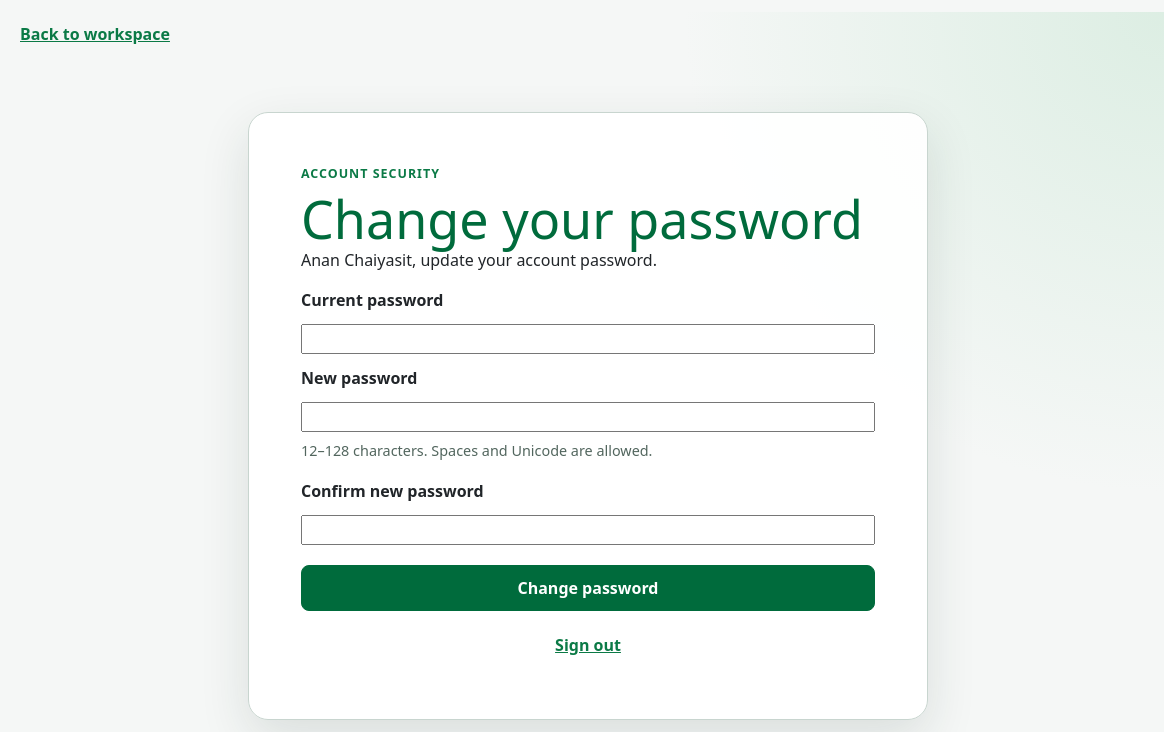
Test: Lab 3 authenticated shell › allows a normal REQUESTER to open and complete password change
Check: the heading "Change your password" is shown, box left=301, top=192, right=875, bottom=248
Type "current-password-value" into the password field labelled "Current password".
click(588, 339); type("current-password-value")  # box left=301, top=324, right=875, bottom=354
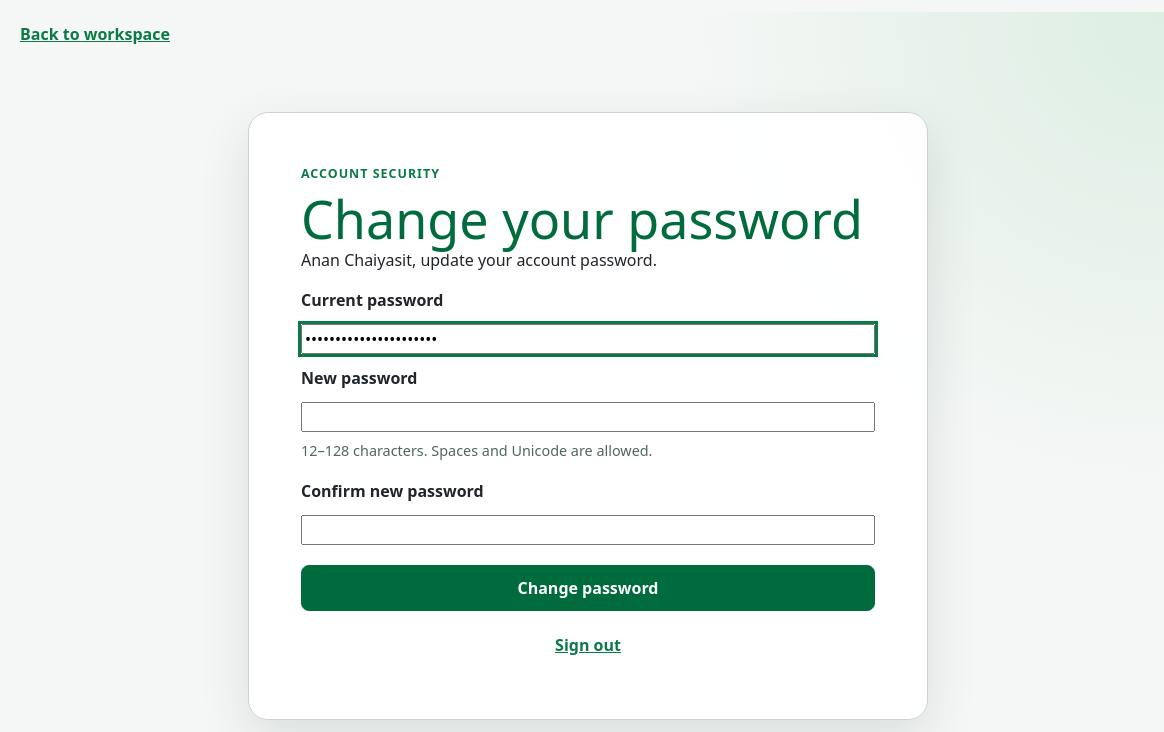
Type "another-private-password" into the password field labelled "New password".
click(588, 417); type("another-private-password")  # box left=301, top=402, right=875, bottom=432
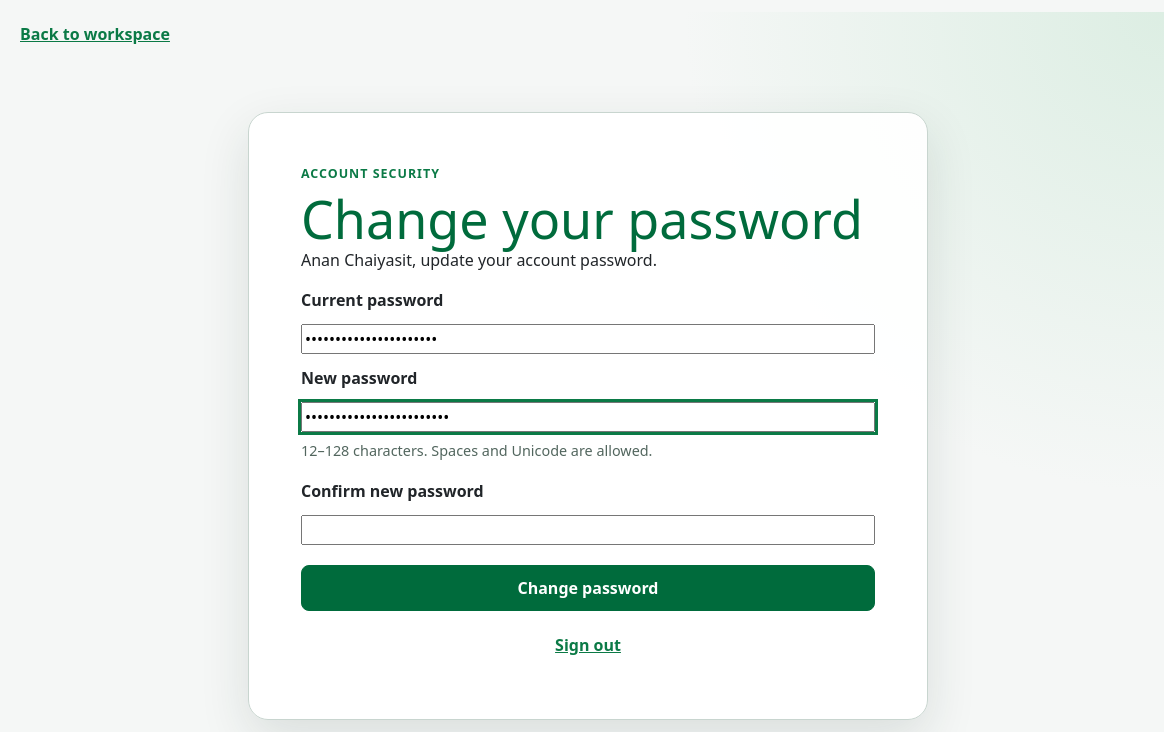
Type "another-private-password" into the password field labelled "Confirm new password".
click(588, 530); type("another-private-password")  # box left=301, top=515, right=875, bottom=545
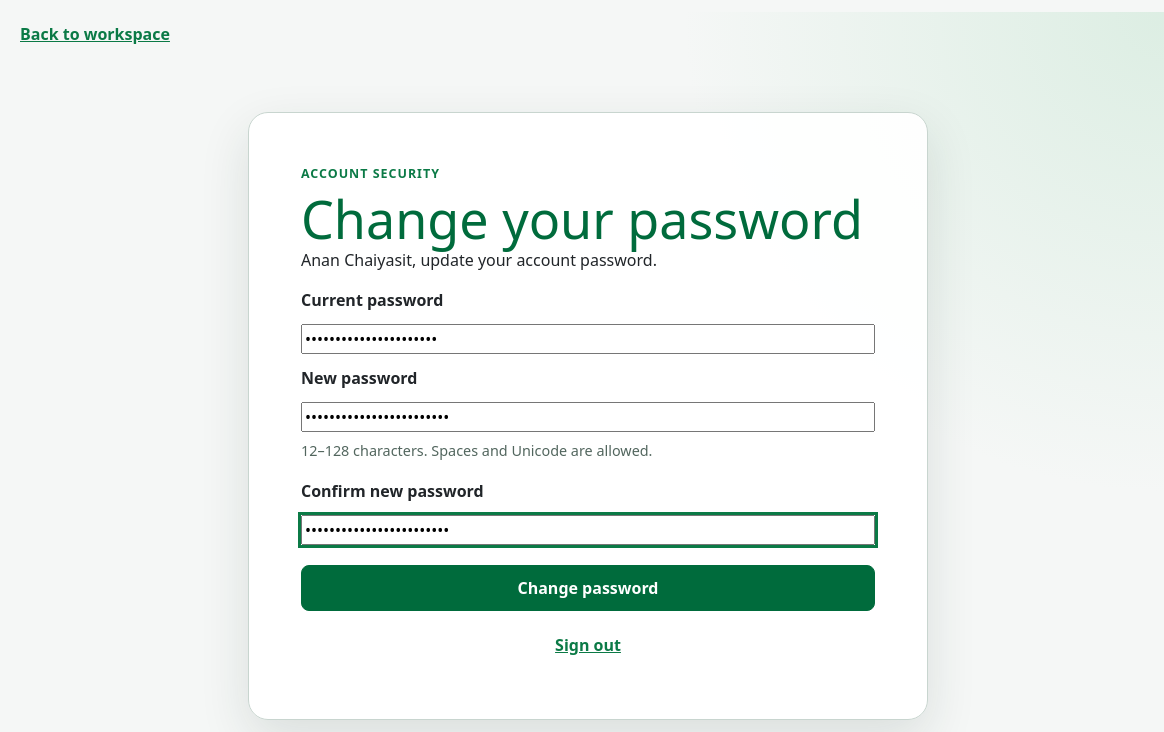
Click the button "Change password".
click(588, 588)  # box left=301, top=565, right=875, bottom=611
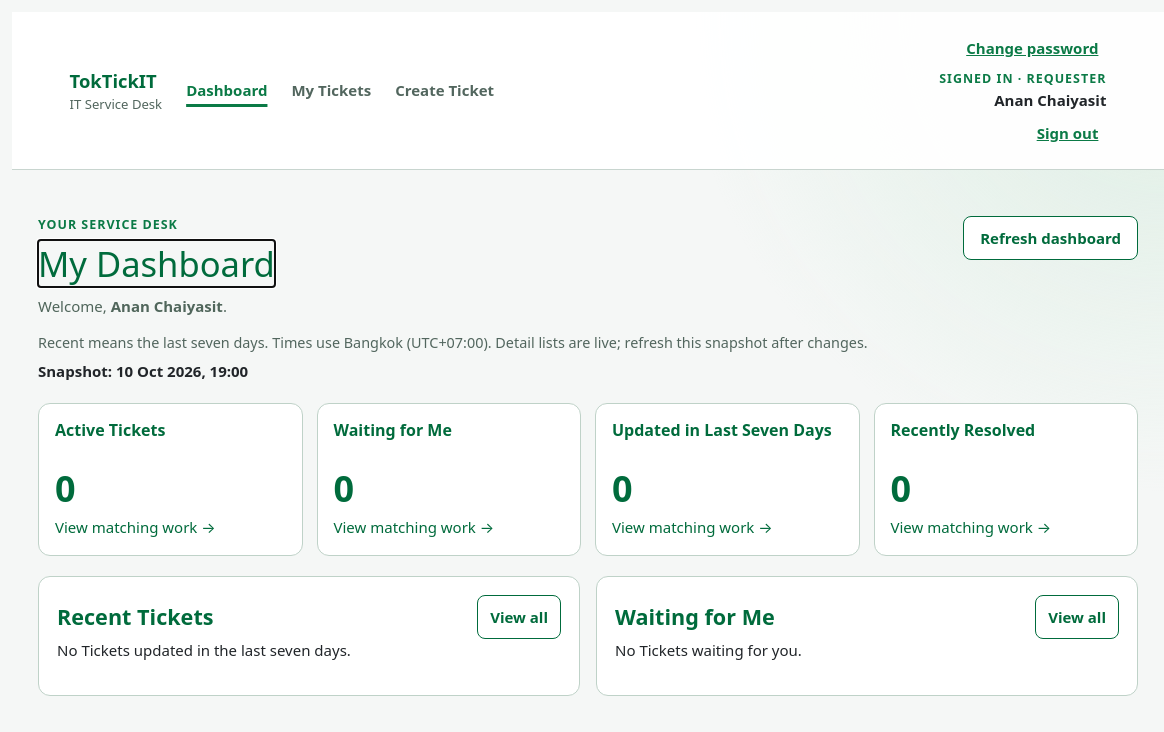
Click the button "Change password".
click(1032, 48)  # box left=958, top=26, right=1106, bottom=70
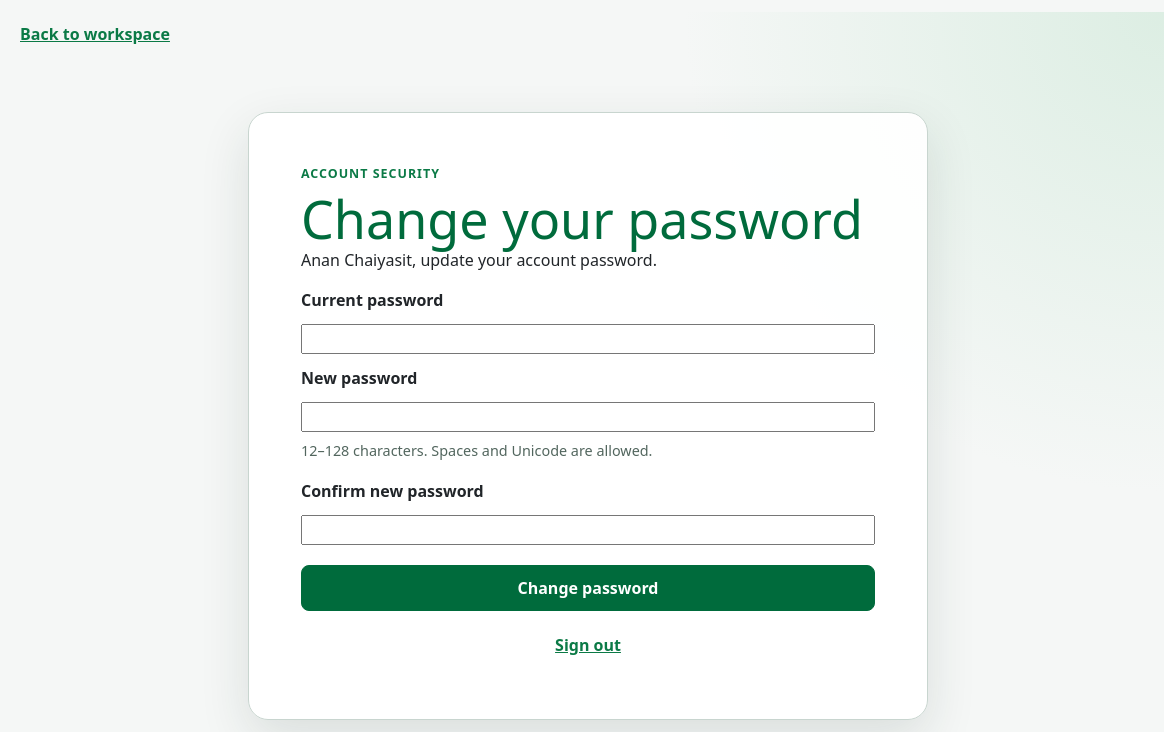
Check: the heading "Change your password" is shown, box left=301, top=192, right=875, bottom=248
